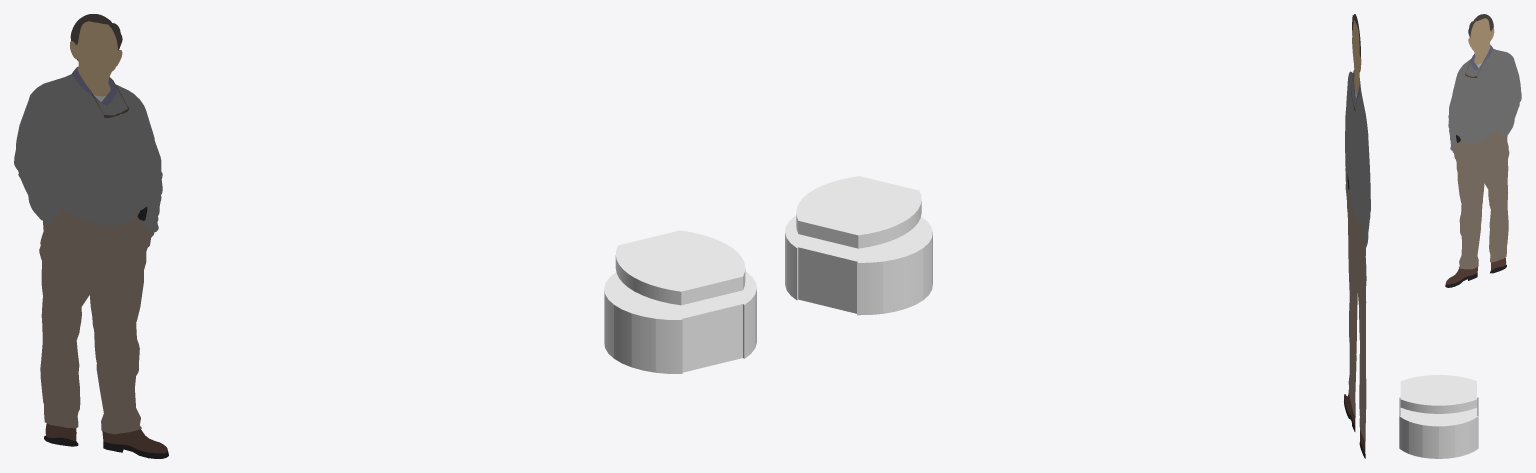
Rendered from patbot.dae.
3 views of the same model, side by side, from view 1: azimuth 30°, elevation 25°; view 2: azimuth 150°, elevation 25°; view 3: azimuth 270°, elevation 25° (orthographic). The views are drawn at different scales.
Visible parts, largest first — view 1: Derrick (×4), SketchUp (×2); view 2: SketchUp (×3), Derrick (×2); view 3: Derrick (×5), SketchUp (×2).
Part boxes in pixels (x1,y1,x2,y2): Derrick (×4): (14,21,167,453); SketchUp (×2): (604,230,756,373); SketchUp (×3): (785,176,932,315); Derrick (×2): (1345,71,1370,440); Derrick (×5): (1446,14,1521,284); SketchUp (×2): (1399,375,1478,458).
Size of the model in its own units: 110 by 29.16 by 69.09.
